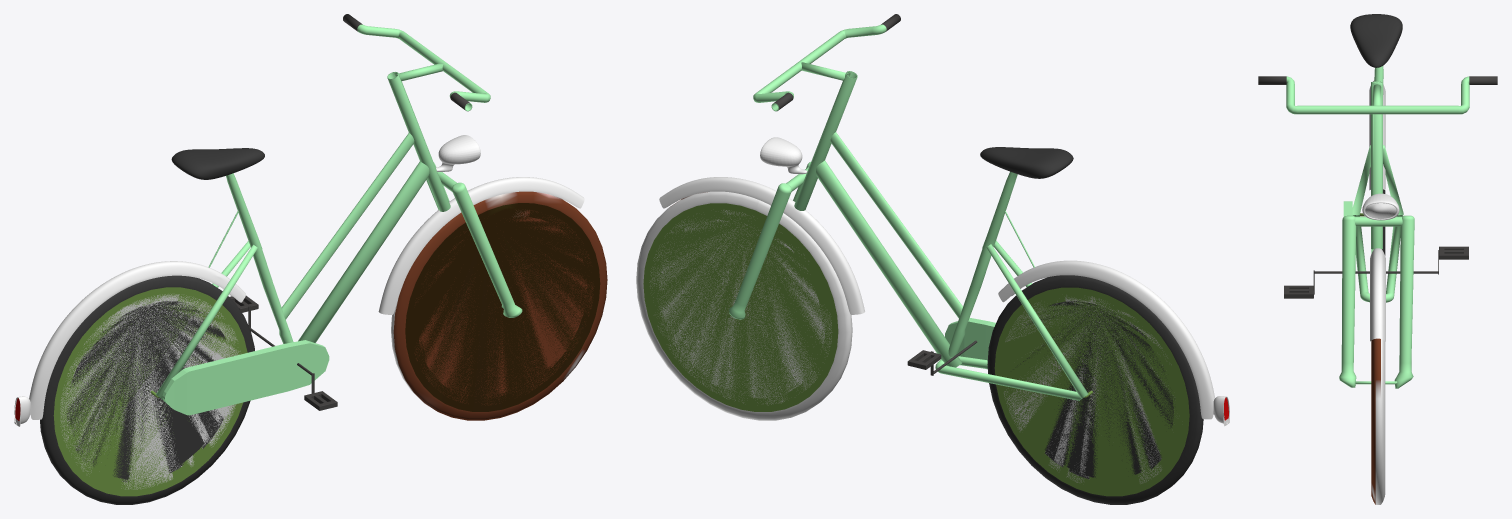
File: bike_tuerkis.fbx
3 renders of one model, left to right at view 1: azimuth 30°, elevation 25°; view 2: azimuth 150°, elevation 25°; view 3: azimuth 270°, elevation 25°, orthographic. The views are drawn at different scales.
Visible parts, largest first — view 1: Vorderreifen, Hinterreifen, Getriebe, Hinterreifen.001, Hinterreifen.002, Lenkerstange, Mittelstange, Mittelstange oben, Sattel, stosdampfer rechts, Lenker, Hinterreifengerüst oben (+1 smaller); view 2: Vorderreifen, Hinterreifen, Hinterreifen.001, Hinterreifen.002, Mittelstange, Lenkerstange, Mittelstange oben, Sattel, stosdämpfer links, Lenker, Hinterreifengerüst oben, Hinterradgerüst unten (+2 smaller); view 3: Lenker, Vorderreifen, stosdämpfer links, stosdampfer rechts, Sattel, Lenkerstange, Hinterreifen.002, Hinterradgerüst unten, Hinterreifengerüst oben, Lampe, mittelsäule, pedal links (+2 smaller).
Boxes of the visible parts, left/top/right/bottom form: Vorderreifen: left=391, top=191, right=607, bottom=420; Hinterreifen: left=40, top=275, right=254, bottom=504; Getriebe: left=162, top=340, right=329, bottom=415; Hinterreifen.001: left=14, top=261, right=245, bottom=426; Hinterreifen.002: left=378, top=177, right=584, bottom=314; Lenkerstange: left=226, top=72, right=450, bottom=343; Mittelstange: left=298, top=161, right=429, bottom=342; Mittelstange oben: left=281, top=133, right=414, bottom=319; Sattel: left=171, top=148, right=264, bottom=179; stosdampfer rechts: left=452, top=182, right=522, bottom=317; Lenker: left=343, top=14, right=490, bottom=111; Hinterreifengerüst oben: left=156, top=241, right=257, bottom=399; Vorderreifen: left=636, top=191, right=852, bottom=420; Hinterreifen: left=987, top=275, right=1203, bottom=504; Hinterreifen.001: left=998, top=260, right=1229, bottom=426; Hinterreifen.002: left=659, top=177, right=864, bottom=314; Mittelstange: left=816, top=160, right=962, bottom=367; Lenkerstange: left=794, top=71, right=1017, bottom=356; Mittelstange oben: left=830, top=132, right=962, bottom=318; Sattel: left=980, top=147, right=1073, bottom=178; stosdämpfer links: left=729, top=183, right=791, bottom=319; Lenker: left=753, top=14, right=900, bottom=111; Hinterreifengerüst oben: left=986, top=240, right=1088, bottom=398; Hinterradgerüst unten: left=935, top=356, right=1082, bottom=400; Lenker: left=1258, top=76, right=1497, bottom=114; Vorderreifen: left=1371, top=338, right=1385, bottom=504; stosdämpfer links: left=1394, top=215, right=1414, bottom=388; stosdampfer rechts: left=1339, top=215, right=1356, bottom=387; Sattel: left=1350, top=14, right=1402, bottom=67; Lenkerstange: left=1371, top=66, right=1383, bottom=249; Hinterreifen.002: left=1370, top=248, right=1385, bottom=341; Hinterradgerüst unten: left=1352, top=215, right=1402, bottom=302; Hinterreifengerüst oben: left=1352, top=145, right=1403, bottom=215; Lampe: left=1362, top=193, right=1399, bottom=220; mittelsäule: left=1355, top=216, right=1402, bottom=226; pedal links: left=1439, top=246, right=1468, bottom=259.
Bounding box in the file's own units: 83.08 × 51.26 × 29.74.
